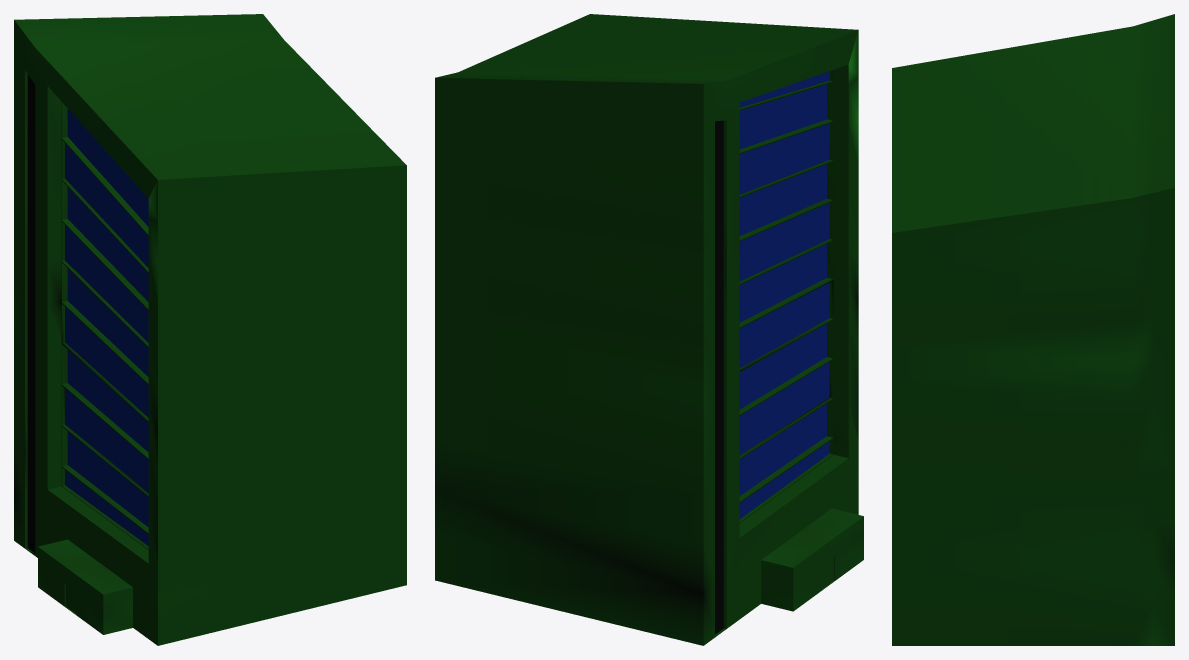
Rendered from skscraper1.fbx.
3 renders of one model, left to right at view 1: azimuth 30°, elevation 25°; view 2: azimuth 150°, elevation 25°; view 3: azimuth 270°, elevation 25°, orthographic. The views are drawn at different scales.
Parts seen in each view (by area): view 1: Box003; view 2: Box003; view 3: Box003.
Part boxes in pixels (bbox=[...]): Box003: bbox=[14, 14, 406, 645]; Box003: bbox=[435, 14, 863, 645]; Box003: bbox=[892, 14, 1174, 645].
Bounding box in the file's own units: 1679 × 3000 × 1500.
